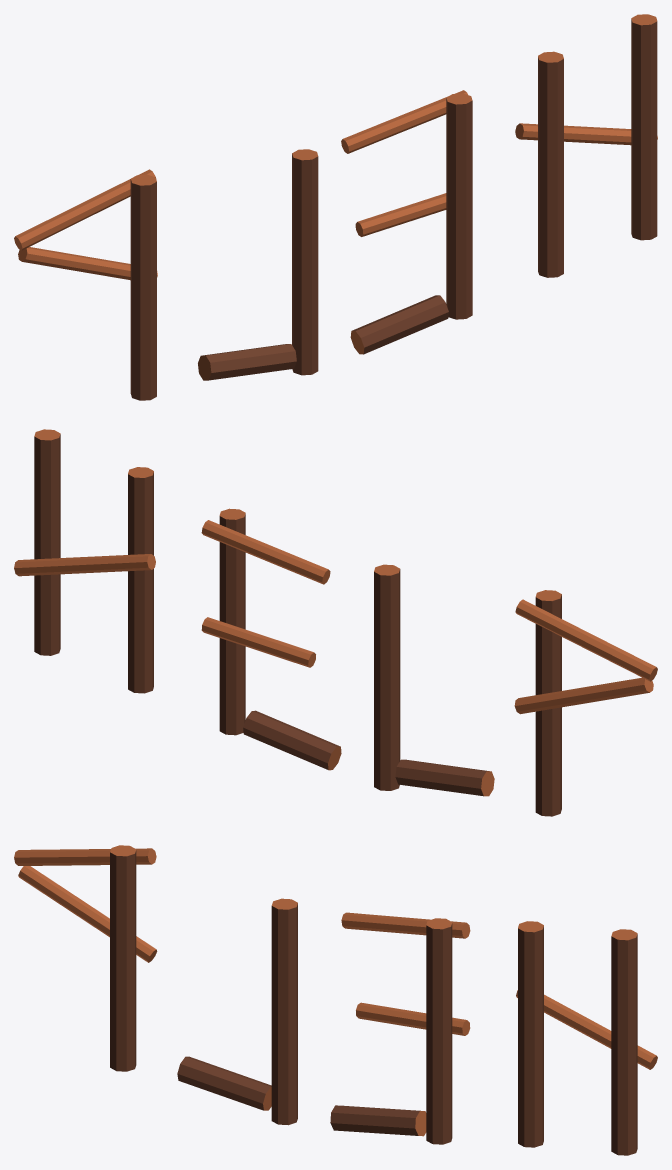
Rendered from help.glb.
The picture shows the model from 3 angles, top to bottom: view 1: azimuth 30°, elevation 25°; view 2: azimuth 150°, elevation 25°; view 3: azimuth 330°, elevation 25°; orthographic projection.
Parts seen in each view (by area): view 1: Cylinder.012, Cylinder.016, Cylinder.014, Cylinder.015, Cylinder.013, Cylinder.017, Cylinder.018, p_fall_1, e_fall_1, p_fall_2, e_fall_2, h_fall; view 2: Cylinder.015, Cylinder.012, Cylinder.013, Cylinder.016, Cylinder.014, Cylinder.017, Cylinder.018, p_fall_1, h_fall, p_fall_2, e_fall_1, e_fall_2; view 3: Cylinder.016, Cylinder.014, Cylinder.012, Cylinder.015, Cylinder.013, Cylinder.018, Cylinder.017, p_fall_2, p_fall_1, e_fall_1, h_fall, e_fall_2.
Part boxes in pixels (x1,y1,x2,y2): Cylinder.012: (631,14,657,240); Cylinder.016: (130,174,156,400); Cylinder.014: (446,93,472,319); Cylinder.015: (292,149,318,375); Cylinder.013: (538,51,563,277); Cylinder.017: (350,295,448,354); Cylinder.018: (198,344,296,380); p_fall_1: (14,169,156,250); e_fall_1: (341,90,467,153); p_fall_2: (18,247,157,280); e_fall_2: (355,193,446,236); h_fall: (515,123,657,145); Cylinder.015: (374,564,400,790); Cylinder.012: (34,429,60,655); Cylinder.013: (128,467,153,693); Cylinder.016: (535,590,561,816); Cylinder.014: (219,508,245,735); Cylinder.017: (243,710,341,770); Cylinder.018: (395,759,494,796); p_fall_1: (515,599,657,681); h_fall: (14,554,155,576); p_fall_2: (514,677,653,714); e_fall_1: (201,520,330,584); e_fall_2: (201,617,315,667); Cylinder.016: (110,845,136,1071); Cylinder.014: (426,918,452,1144); Cylinder.012: (611,929,637,1155); Cylinder.015: (271,898,297,1125); Cylinder.013: (518,921,543,1147); Cylinder.018: (177,1056,271,1110); Cylinder.017: (330,1105,426,1136); p_fall_2: (18,866,157,962); p_fall_1: (14,848,156,865); e_fall_1: (341,912,470,938); h_fall: (516,990,657,1069); e_fall_2: (356,1002,470,1035).
Size of the model in its own units: 4.33 by 1.73 by 0.2463.
